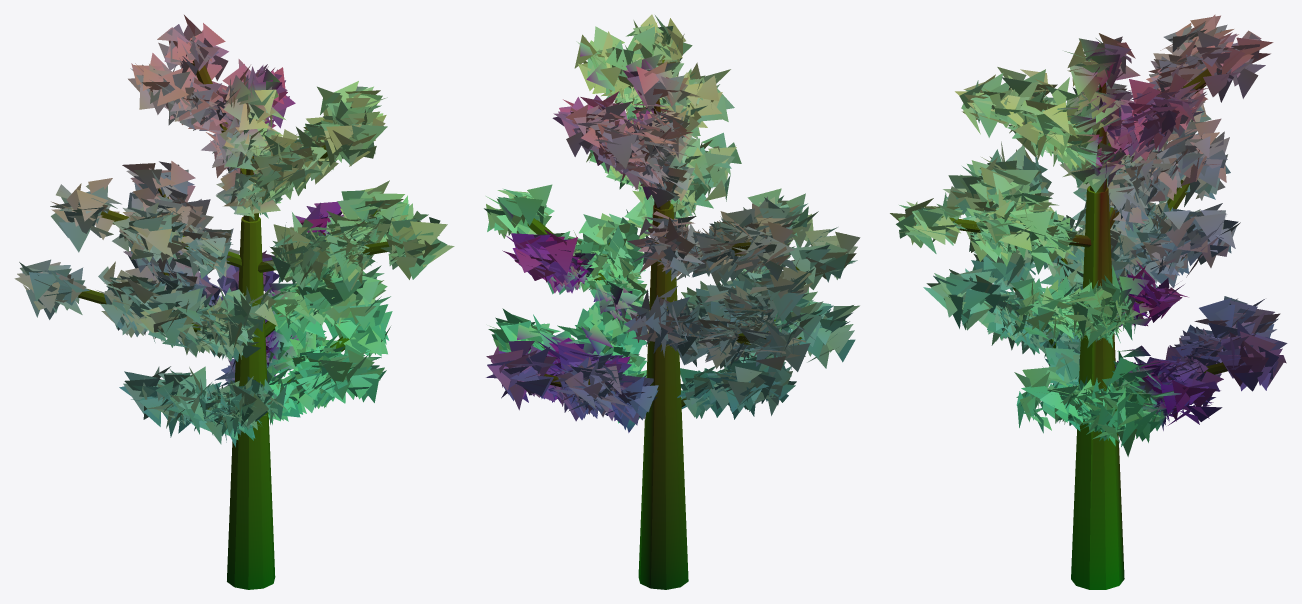
The model's file is ecological_broadleaf_established_02.glb.
The picture shows the model from 3 angles, left to right: view 1: azimuth 30°, elevation 25°; view 2: azimuth 150°, elevation 25°; view 3: azimuth 270°, elevation 25°; orthographic projection. The views are drawn at different scales.
Parts seen in each view (by area): view 1: ecological_broadleaf_established_02; view 2: ecological_broadleaf_established_02; view 3: ecological_broadleaf_established_02.
Part boxes in pixels (left/top/right/bottom): ecological_broadleaf_established_02: left=14, top=15, right=454, bottom=589; ecological_broadleaf_established_02: left=484, top=14, right=860, bottom=589; ecological_broadleaf_established_02: left=890, top=14, right=1287, bottom=589.
Size of the model in its own units: 13.8 by 18.76 by 12.4.
